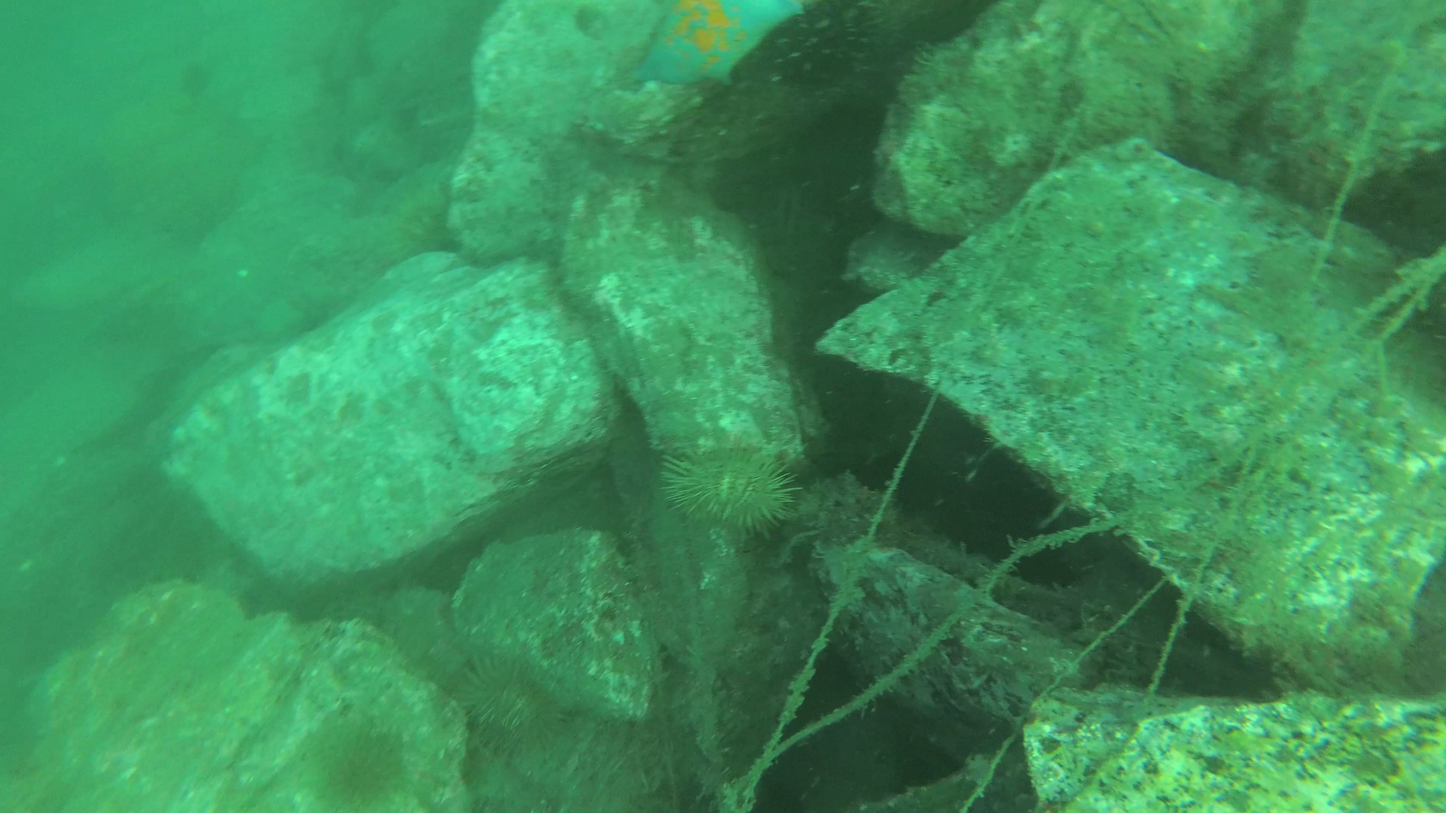holothurian: (625, 1, 832, 81)
starfish: (654, 438, 805, 537), (441, 648, 554, 754), (752, 0, 874, 85), (367, 185, 461, 265)
